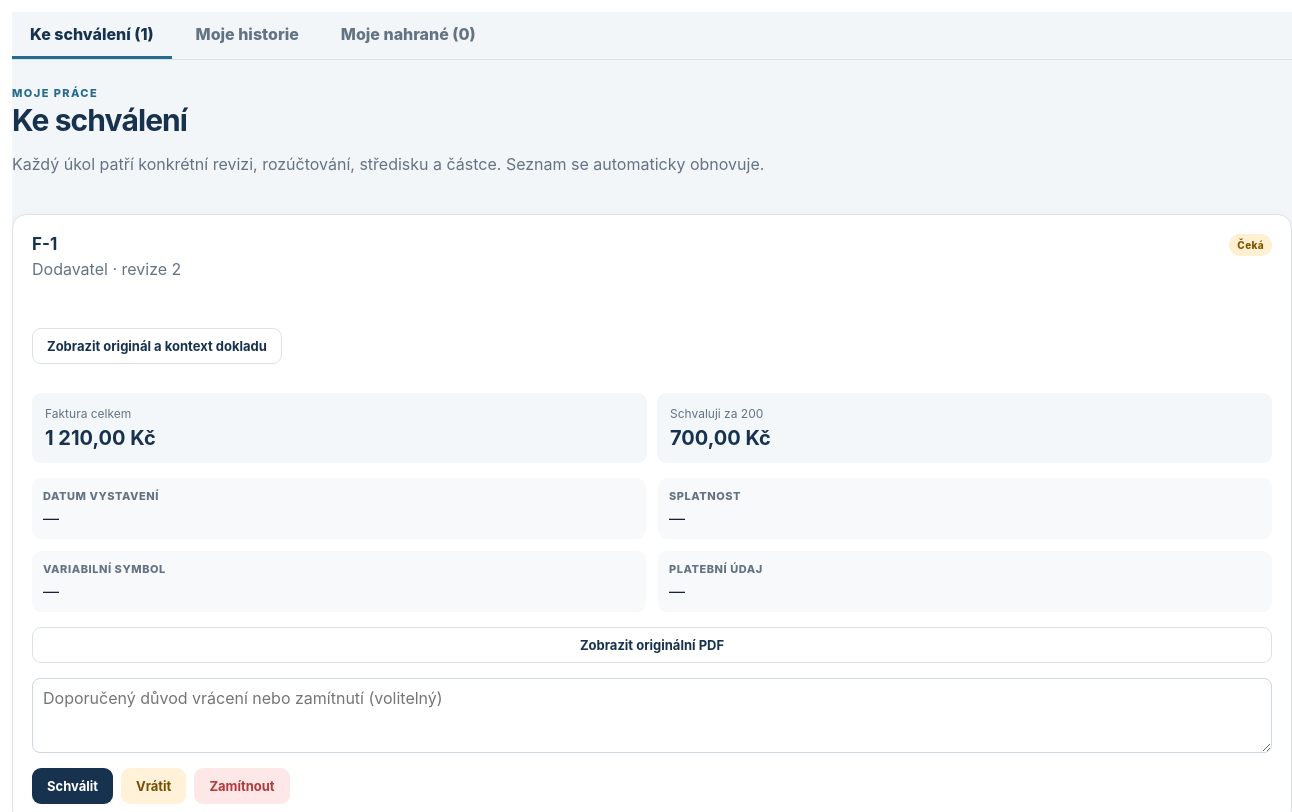
Test: Stage B pages › prevents a double approval while the first decision is pending
Click the button "Schválit" at (73, 786), box left=32, top=768, right=113, bottom=804
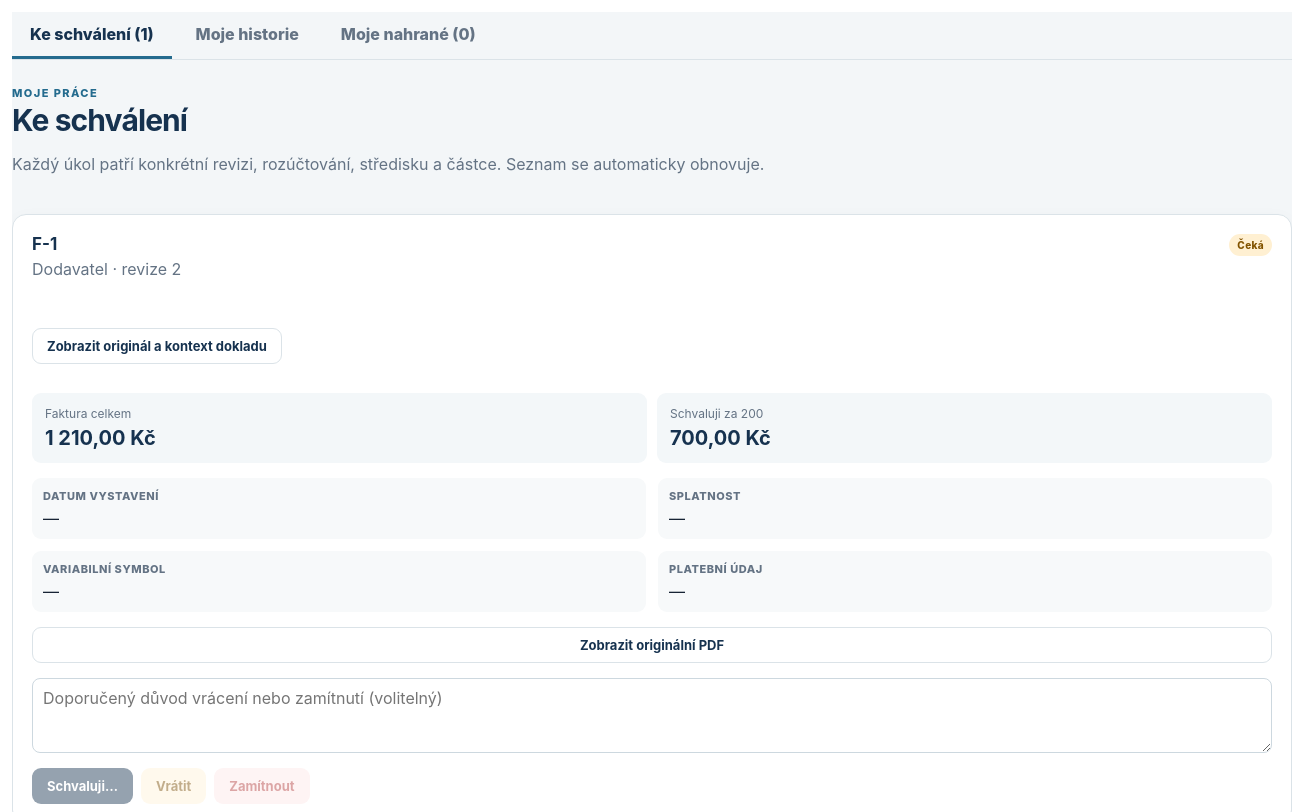
Expected: the button "Schvaluji…" is disabled
Click the button "Schvaluji…" at (82, 786), box left=32, top=768, right=133, bottom=804
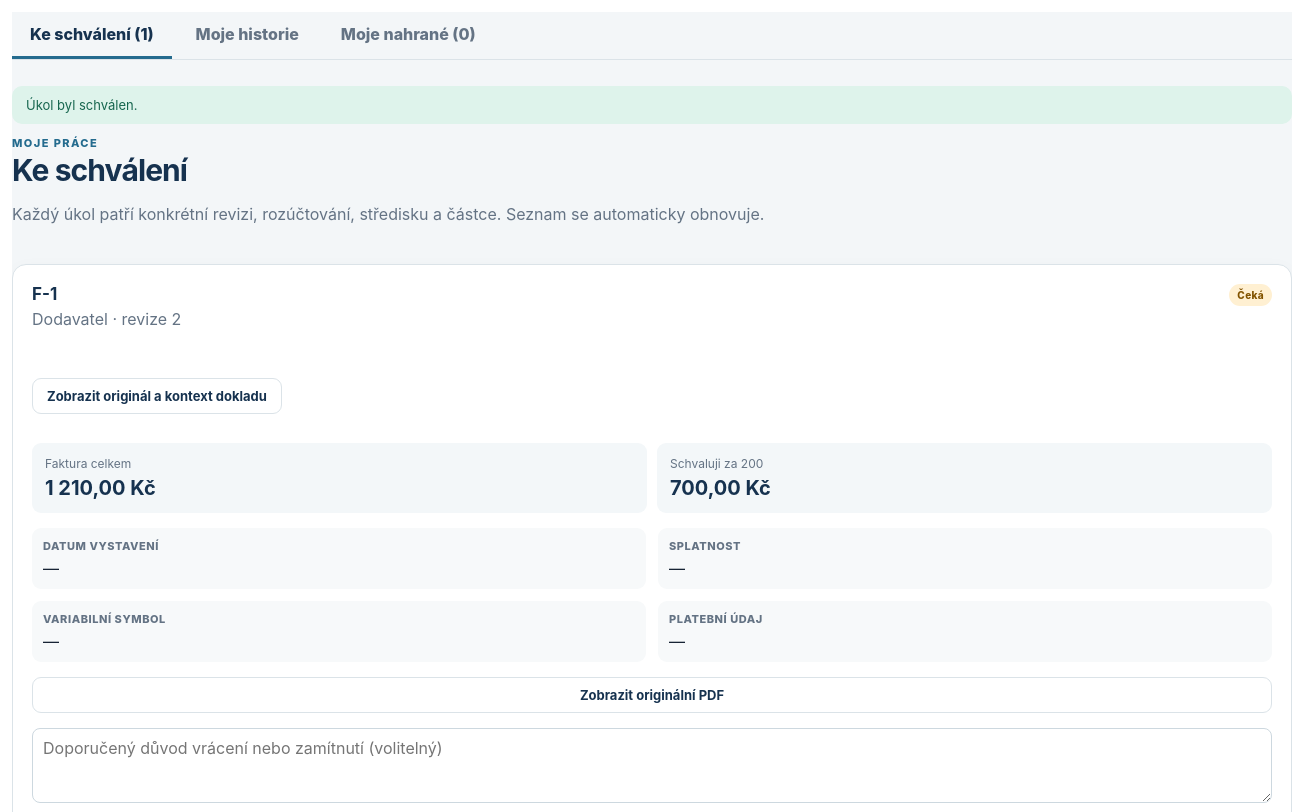
Expected: the text "Úkol byl schválen." is shown, left=12, top=86, right=1291, bottom=124
